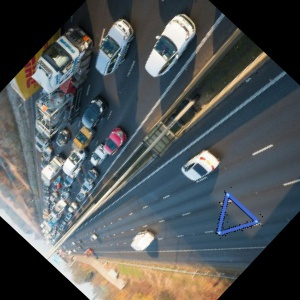triangle: (213, 190, 260, 236)
